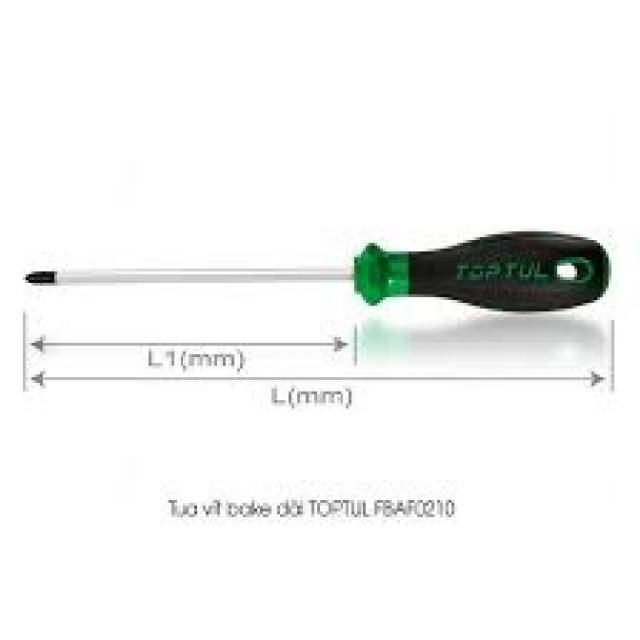screwdriver: (19, 228, 614, 314)
